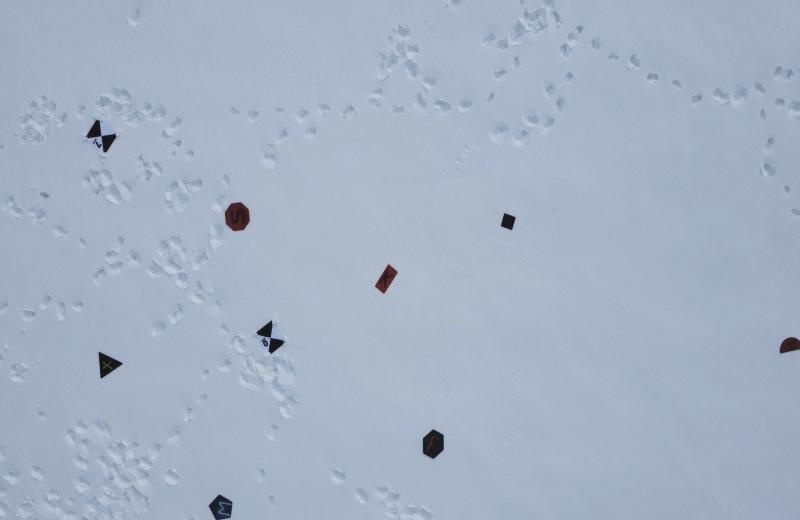Hexagon: (420, 428, 450, 462)
Octagon: (220, 200, 256, 236)
Pentagon: (203, 493, 237, 520)
Rectangle: (372, 264, 400, 298)
Semi Circle: (777, 333, 800, 356)
Square: (498, 209, 519, 234)
Triangle: (95, 346, 124, 380)
